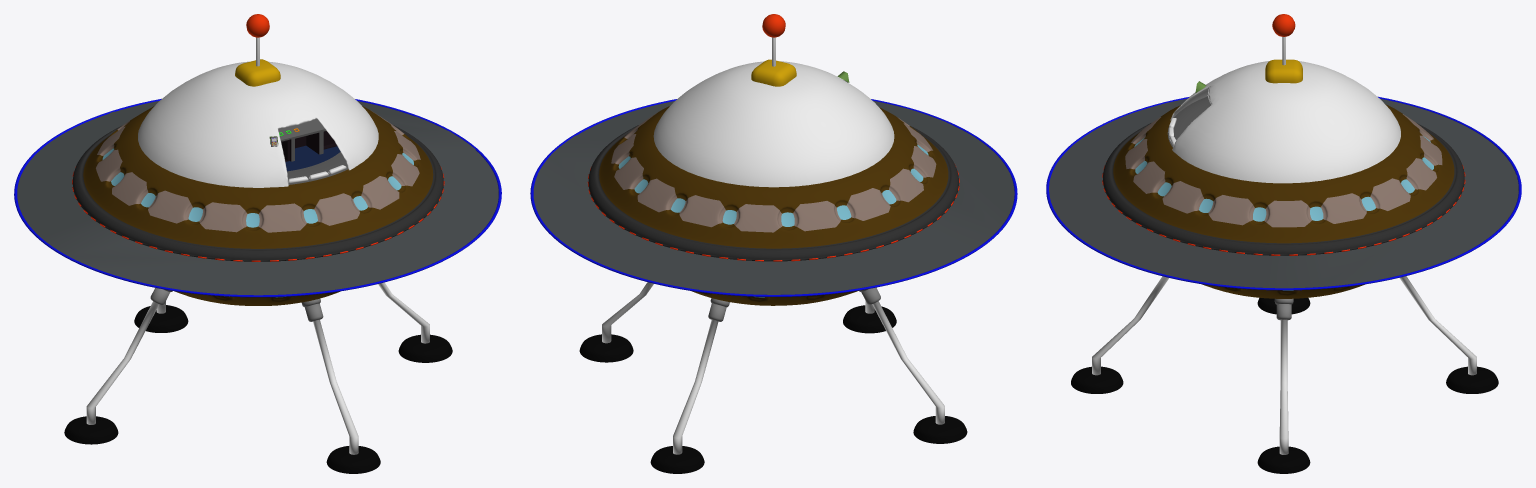
The model's file is spaceship.fbx.
The picture shows the model from 3 angles, left to right: view 1: azimuth 30°, elevation 25°; view 2: azimuth 150°, elevation 25°; view 3: azimuth 270°, elevation 25°; orthographic projection. The views are drawn at different scales.
Visible parts, largest first — view 1: Circle.005, Circle.000, Sphere.001, Circle.001, Cylinder.002, Cube.001, Cylinder.001, Circle.007, Circle, Circle.006, Circle.002, Circle.004 (+3 smaller); view 2: Circle.005, Circle.000, Sphere.001, Circle.001, Cylinder.003, Cylinder.001, Circle.006, Circle.004, Circle.007, Circle.002, Circle, Plane.001 (+1 smaller); view 3: Circle.005, Circle.000, Sphere.001, Circle.001, Cylinder.004, Circle.006, Circle.004, Circle, Circle.002, Cylinder.002, Cylinder.003, Plane.001 (+1 smaller).
Part boxes in pixels (x1=…): Circle.005: x1=72, y1=106, x2=444, y2=261; Circle.000: x1=17, y1=101, x2=498, y2=295; Sphere.001: x1=138, y1=61, x2=378, y2=187; Circle.001: x1=14, y1=98, x2=501, y2=297; Cylinder.002: x1=301, y1=298, x2=358, y2=454; Cube.001: x1=278, y1=118, x2=336, y2=161; Cylinder.001: x1=86, y1=288, x2=172, y2=424; Circle.007: x1=64, y1=416, x2=118, y2=444; Circle: x1=326, y1=446, x2=380, y2=473; Circle.006: x1=398, y1=334, x2=452, y2=362; Circle.002: x1=174, y1=291, x2=340, y2=305; Circle.004: x1=134, y1=305, x2=188, y2=332; Circle.005: x1=587, y1=106, x2=959, y2=261; Circle.000: x1=533, y1=100, x2=1014, y2=294; Sphere.001: x1=653, y1=61, x2=894, y2=187; Circle.001: x1=530, y1=99, x2=1017, y2=296; Cylinder.003: x1=673, y1=298, x2=729, y2=454; Cylinder.001: x1=859, y1=287, x2=944, y2=424; Circle.006: x1=579, y1=334, x2=633, y2=362; Circle.004: x1=650, y1=446, x2=704, y2=473; Circle.007: x1=913, y1=416, x2=967, y2=443; Circle.002: x1=691, y1=290, x2=858, y2=305; Circle: x1=843, y1=305, x2=896, y2=333; Plane.001: x1=751, y1=59, x2=796, y2=86; Circle.005: x1=1102, y1=96, x2=1465, y2=255; Circle.000: x1=1049, y1=98, x2=1518, y2=288; Sphere.001: x1=1170, y1=61, x2=1400, y2=183; Circle.001: x1=1046, y1=96, x2=1521, y2=290; Cylinder.004: x1=1274, y1=298, x2=1293, y2=454; Circle.006: x1=1257, y1=446, x2=1310, y2=473; Circle.004: x1=1446, y1=366, x2=1498, y2=393; Circle: x1=1071, y1=366, x2=1123, y2=393; Circle.002: x1=1202, y1=284, x2=1364, y2=298; Cylinder.002: x1=1092, y1=276, x2=1168, y2=375; Cylinder.003: x1=1399, y1=276, x2=1476, y2=375; Plane.001: x1=1265, y1=59, x2=1302, y2=83.
Bounding box in the file's own units: 2524 × 2156 × 2524.
